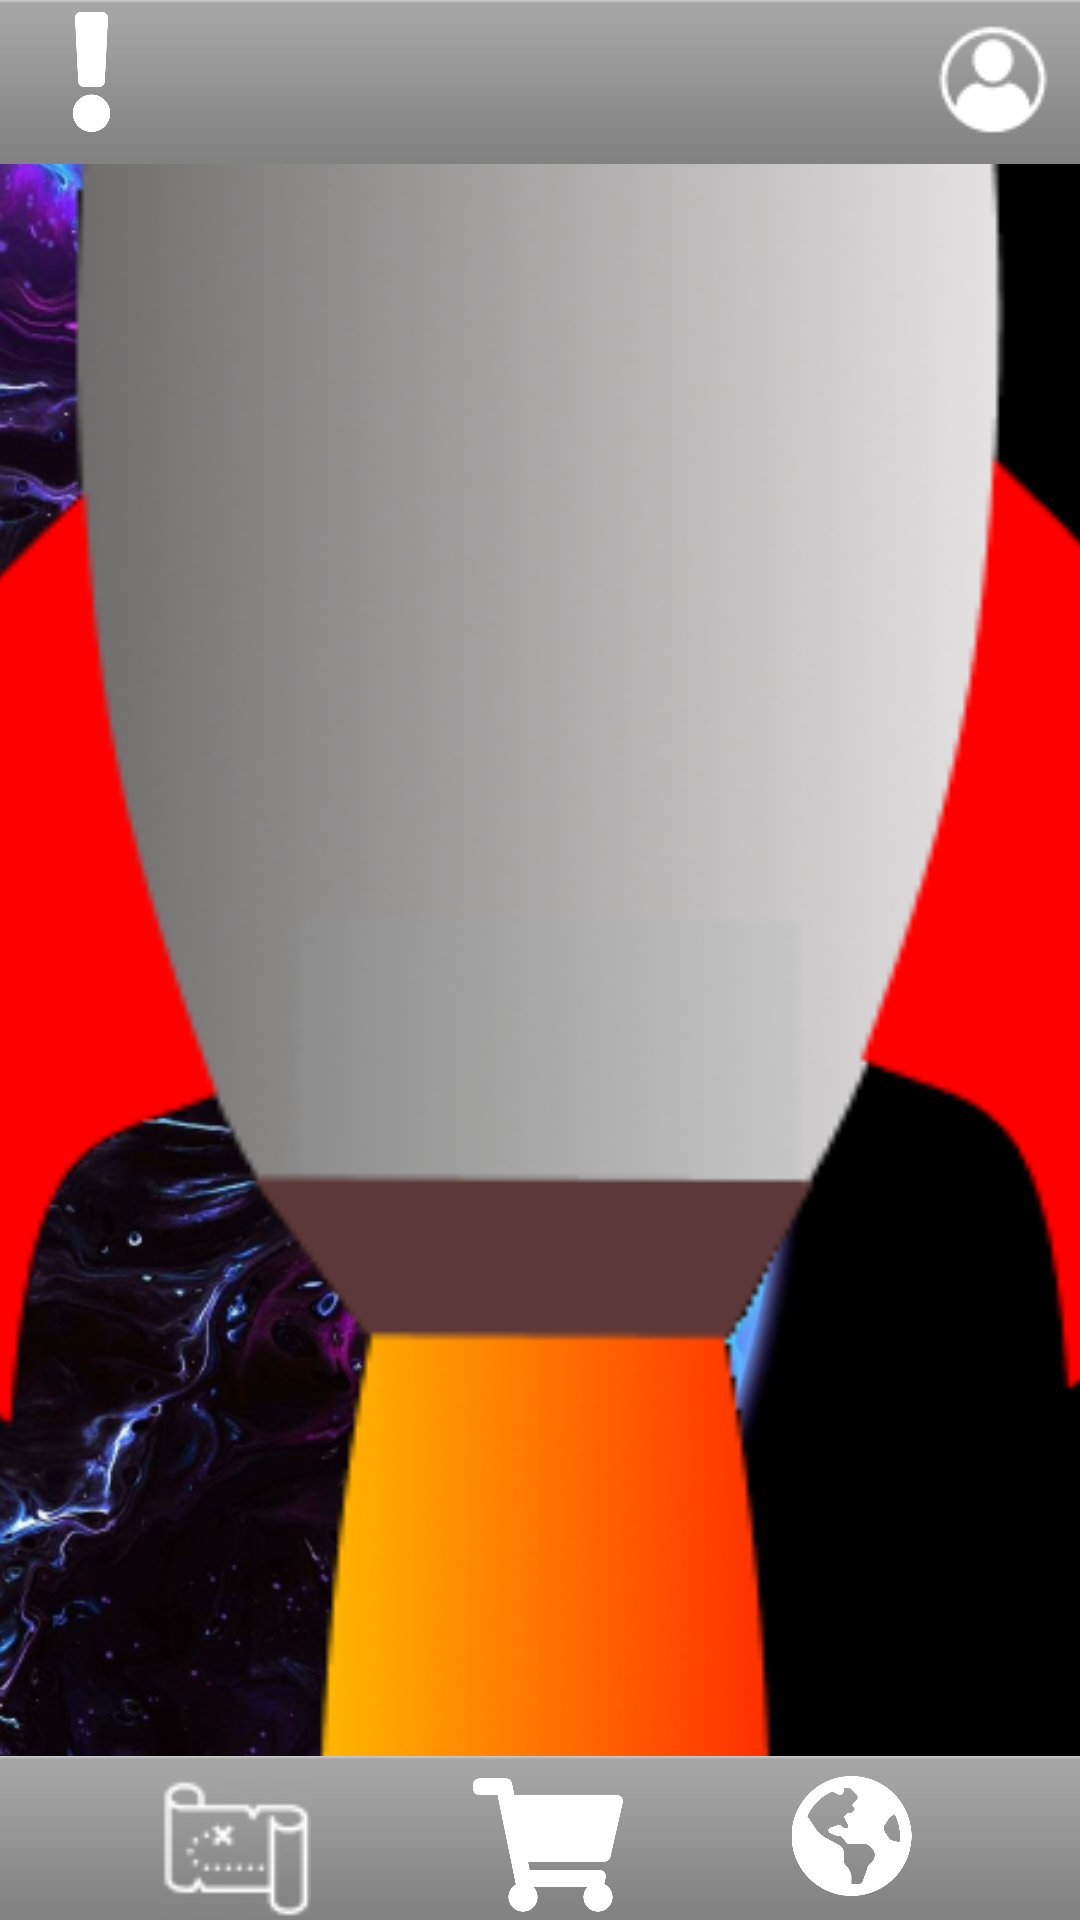

Icon bounding boxes for this 1080x1920 phone screenshot, format detection(x1, y1, x2, y2):
earthicon: detection(784, 1776, 919, 1896)
excla: detection(24, 12, 159, 132)
mapawhite: detection(161, 1781, 311, 1920)
profile: detection(940, 26, 1046, 132)
shoping: detection(473, 1778, 623, 1920)
